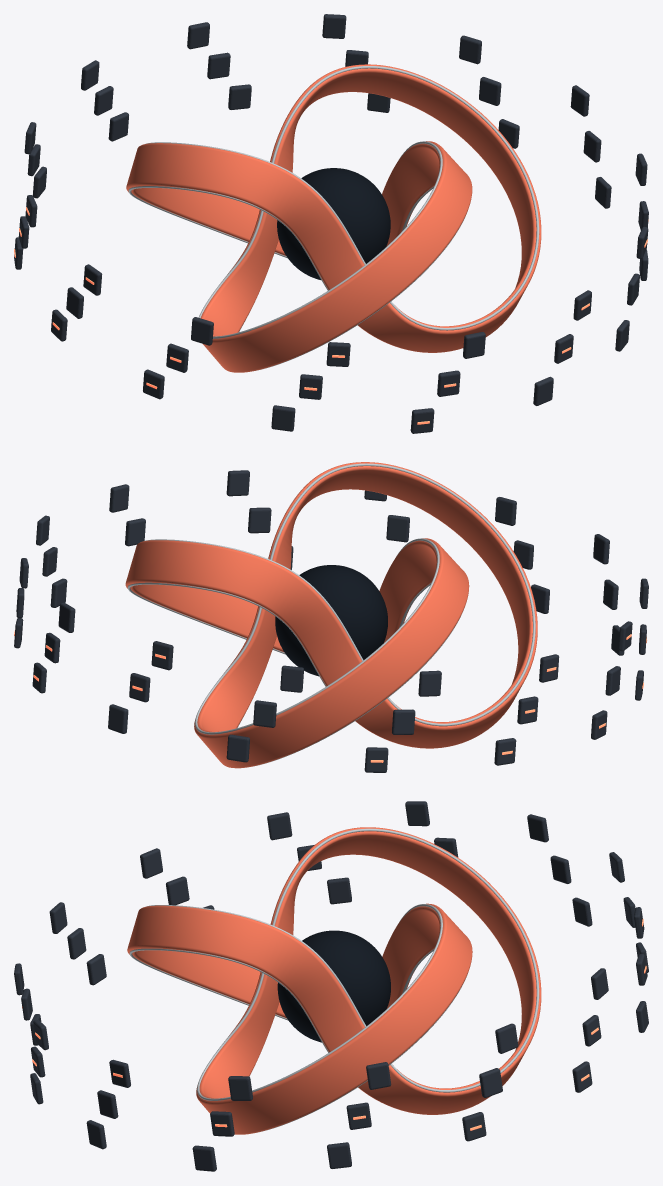
The model's file is creative.glb.
The picture shows the model from 3 angles, top to bottom: view 1: azimuth 30°, elevation 25°; view 2: azimuth 150°, elevation 25°; view 3: azimuth 270°, elevation 25°; orthographic projection.
Visible parts, largest first — view 1: emit_core, pbr_wire_band_graphite, solid_body, pbr_static_edge; view 2: emit_core, pbr_wire_band_graphite, solid_body, pbr_static_edge; view 3: emit_core, pbr_wire_band_graphite, solid_body, pbr_static_edge.
Part boxes in pixels (bbox=[...]): emit_core: bbox=[126, 64, 541, 372]; pbr_wire_band_graphite: bbox=[14, 14, 648, 433]; solid_body: bbox=[277, 168, 390, 279]; pbr_static_edge: bbox=[128, 66, 539, 370]; emit_core: bbox=[125, 462, 537, 768]; pbr_wire_band_graphite: bbox=[14, 470, 648, 772]; solid_body: bbox=[275, 565, 387, 676]; pbr_static_edge: bbox=[127, 463, 535, 766]; emit_core: bbox=[127, 827, 541, 1134]; pbr_wire_band_graphite: bbox=[14, 801, 648, 1171]; solid_body: bbox=[277, 930, 390, 1042]; pbr_static_edge: bbox=[129, 828, 539, 1132].
Size of the model in its own units: 5.37 by 1.88 by 5.37.
